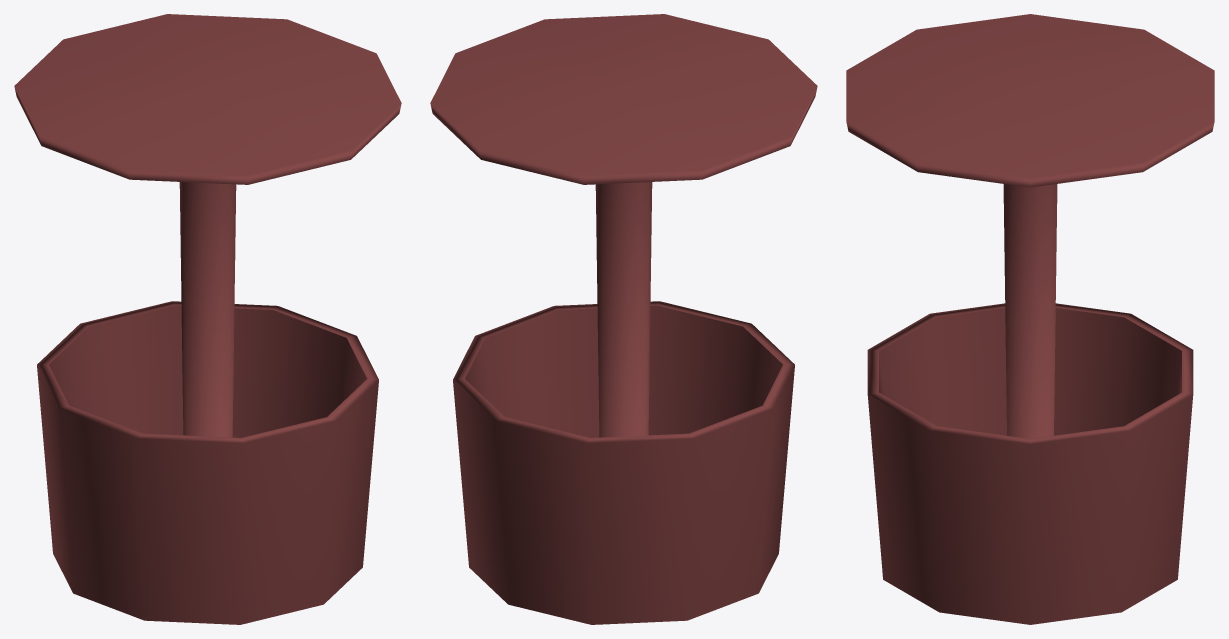
The model's file is CestaNoria.fbx.
3 views of the same model, side by side, from view 1: azimuth 30°, elevation 25°; view 2: azimuth 150°, elevation 25°; view 3: azimuth 270°, elevation 25° (orthographic).
Visible parts, largest first — view 1: CestaL; view 2: CestaL; view 3: CestaL.
Boxes of the visible parts, <box> form: CestaL: <box>14,14,401,624</box>; CestaL: <box>430,14,817,624</box>; CestaL: <box>846,14,1214,624</box>.
Bounding box in the file's own units: 167 × 223 × 159.
